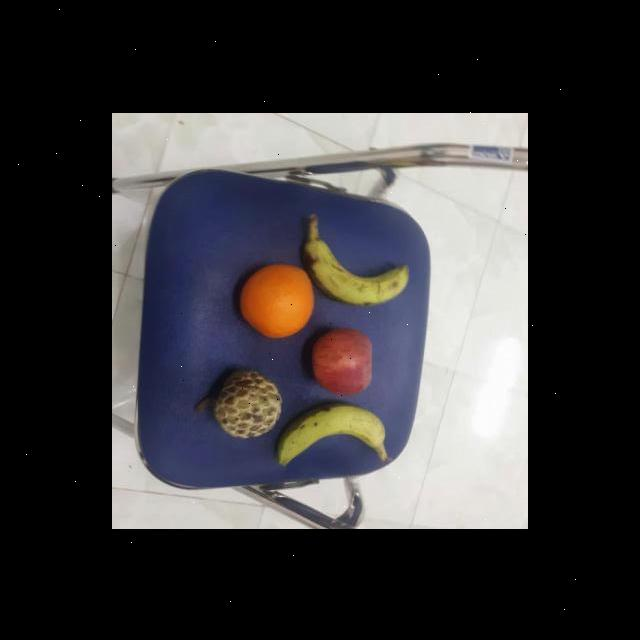Sakya fruit: (213, 366, 283, 439)
apple: (309, 326, 377, 396)
banana: (302, 229, 414, 315), (275, 399, 391, 468)
orange: (236, 260, 316, 337)
